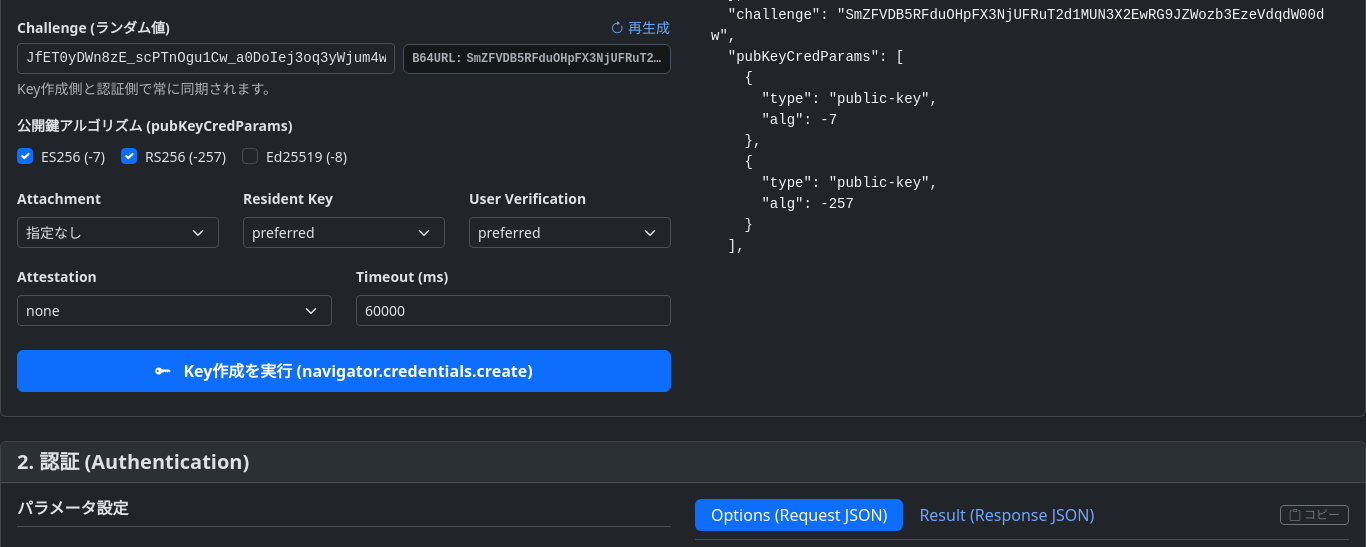
Scenario: DevelopFido.vue › handles credential creation error
The width and height of the screenshot is (1366, 547).
(page scrolled)
Click the button with id "btnCreateCredential": (344, 371) [17,350,671,392]
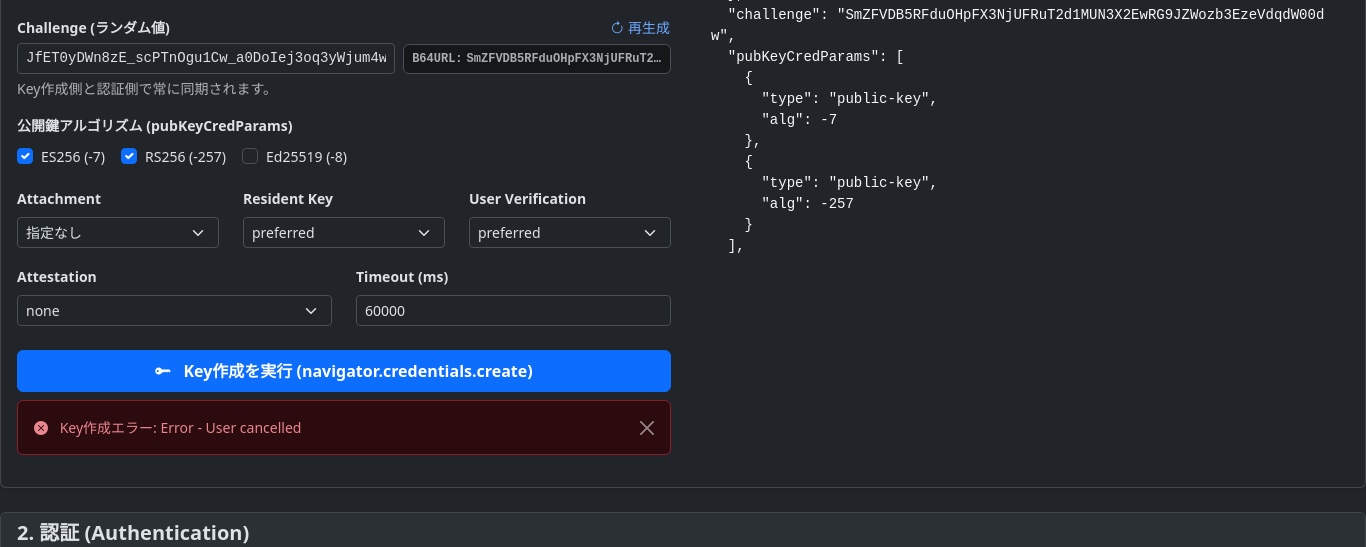
Expected: the text "Key作成エラー" is shown, [56,418,301,437]
Expected: the text "User cancelled" is shown, [56,418,301,437]
